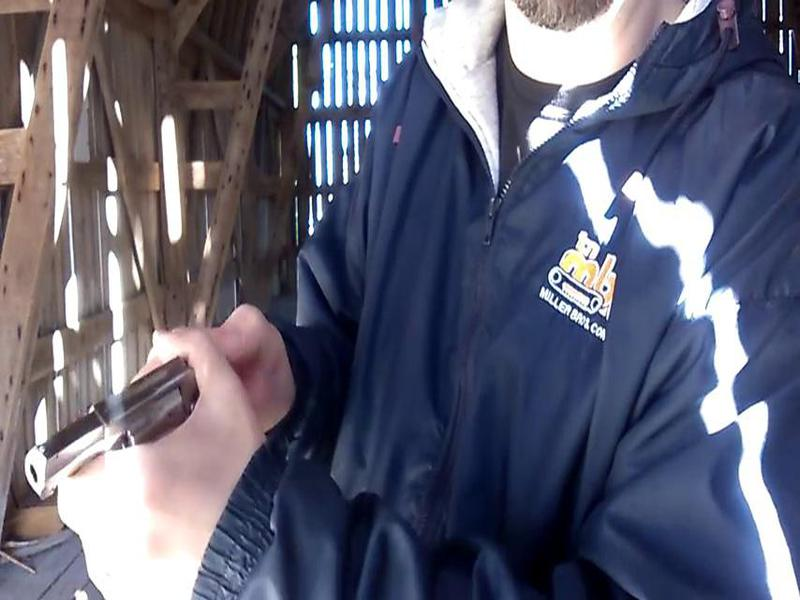Revolver: (1, 340, 227, 510)
